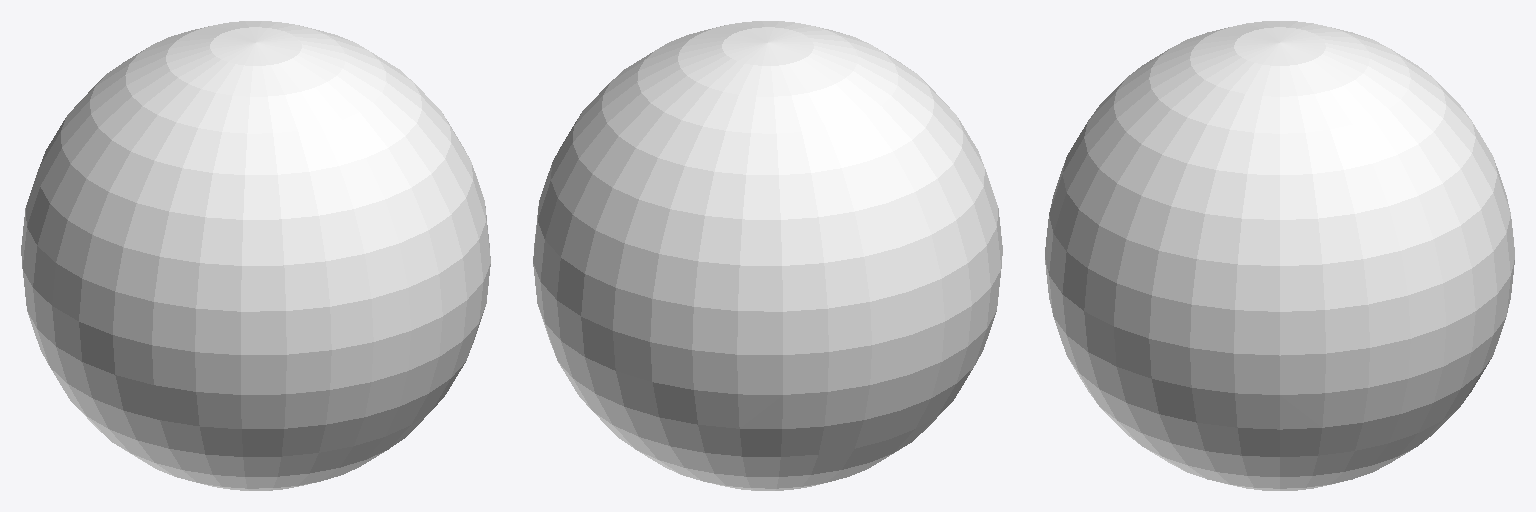
The picture shows the model from 3 angles: view 1: azimuth 30°, elevation 25°; view 2: azimuth 150°, elevation 25°; view 3: azimuth 270°, elevation 25°; orthographic projection.
Parts seen in each view (by area): view 1: Sphere; view 2: Sphere; view 3: Sphere.
Part boxes in pixels (left/top/right/bottom): Sphere: left=21, top=21, right=490, bottom=490; Sphere: left=533, top=21, right=1002, bottom=490; Sphere: left=1045, top=21, right=1514, bottom=490.
Size of the model in its own units: 0.4 by 0.4 by 0.4.
1 materials, 1 textured.